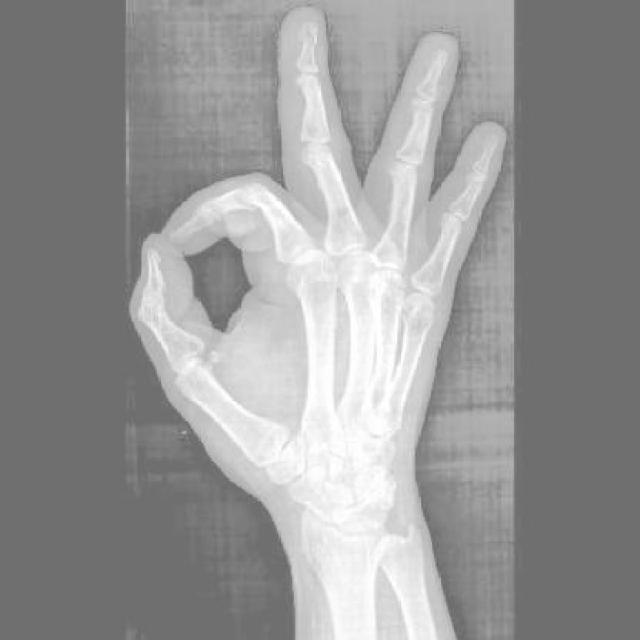Fracture: (423, 48, 446, 72), (296, 20, 316, 46)
